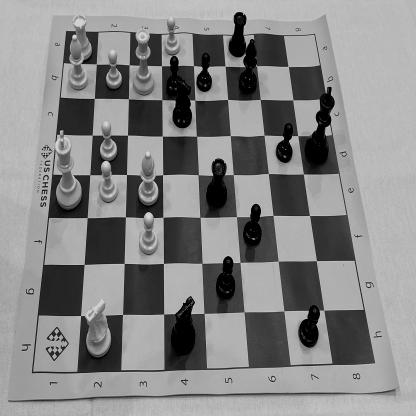black-bishop: (238, 35, 258, 96)
black-king: (304, 82, 338, 166)
black-knight: (167, 287, 199, 357), (167, 75, 197, 130)
black-pawn: (297, 300, 322, 351), (241, 199, 265, 250), (213, 252, 238, 300), (162, 53, 184, 97), (194, 50, 215, 94), (274, 119, 294, 165)
black-rook: (204, 153, 231, 210), (224, 7, 249, 60)
white-bishop: (132, 146, 162, 210), (64, 30, 91, 92)
white-king: (50, 124, 86, 216)
white-knight: (79, 290, 116, 364)
white-pawn: (94, 156, 121, 207), (101, 43, 126, 93), (137, 209, 161, 260), (96, 117, 120, 167), (162, 12, 183, 60)
white-queen: (129, 23, 158, 99)
white-rook: (70, 9, 96, 63)
